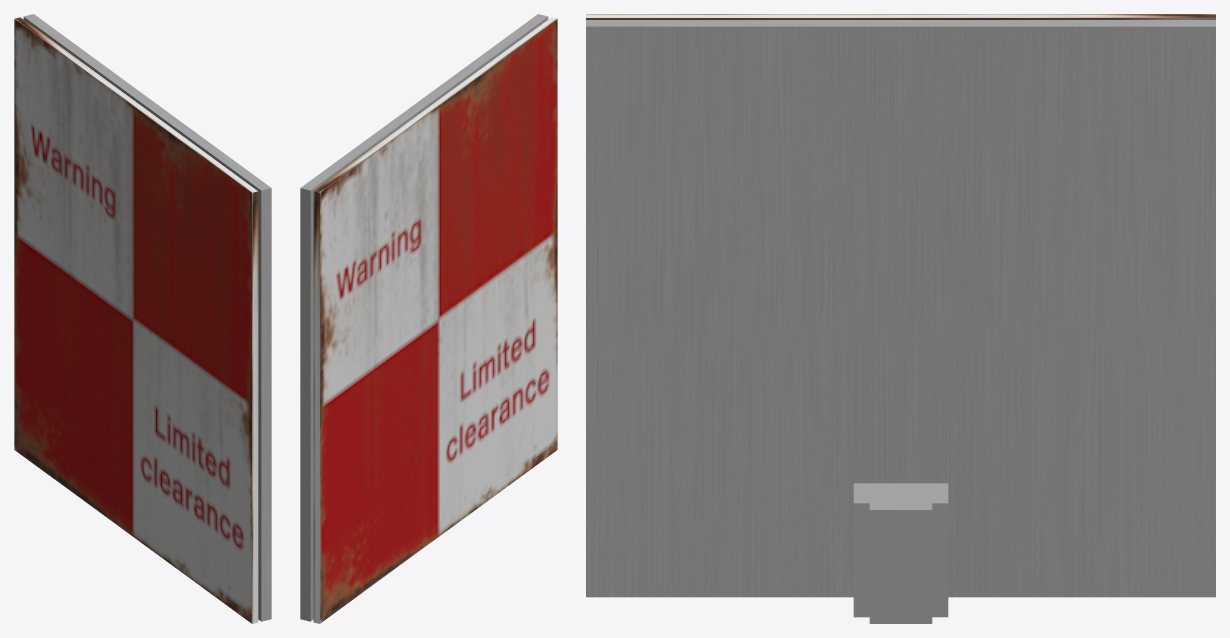
File: limited_clearance_rusty_large.obj
3 views of the same model, side by side, from view 1: azimuth 30°, elevation 25°; view 2: azimuth 150°, elevation 25°; view 3: azimuth 270°, elevation 25° (orthographic). The views are drawn at different scales.
Parts seen in each view (by area): view 1: cube; view 2: cube; view 3: cube.
Boxes of the visible parts, x1=… form: cube: x1=14, y1=14, x2=271, y2=623; cube: x1=300, y1=14, x2=557, y2=623; cube: x1=586, y1=14, x2=1215, y2=623.
Size of the model in its own units: 0.0922 by 0.625 by 0.625.
2 materials, 2 textured.
